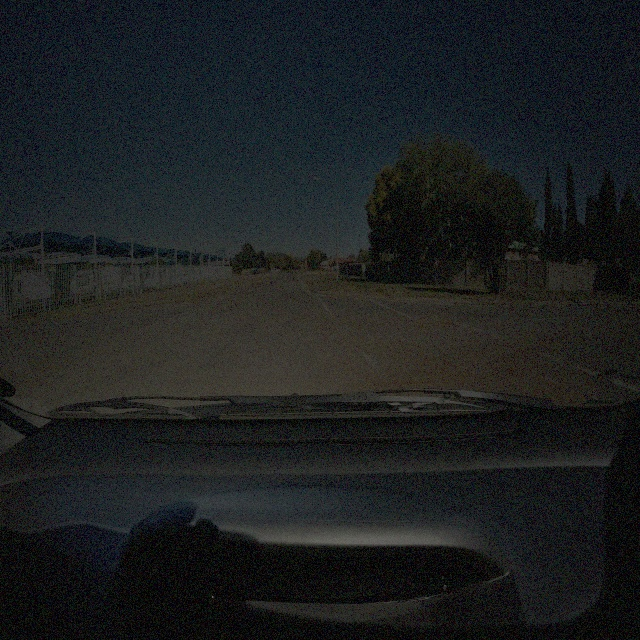pothole: (440, 320, 455, 326)
